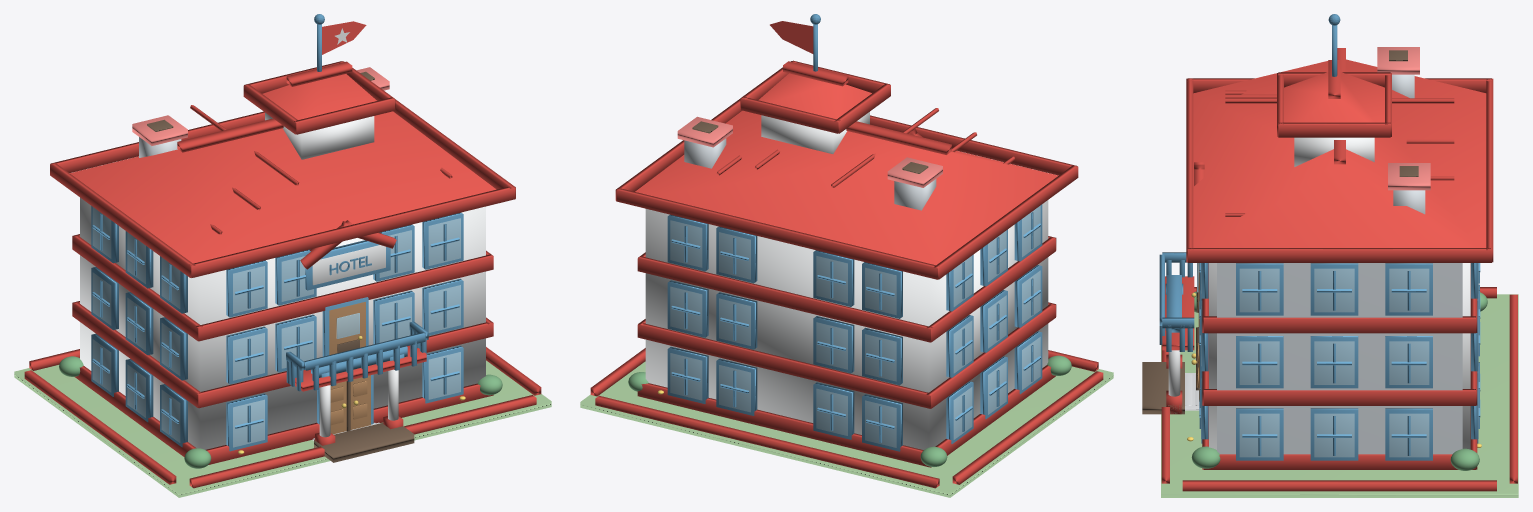
Rendered from hotel_detallado.glb.
3 views of the same model, side by side, from view 1: azimuth 30°, elevation 25°; view 2: azimuth 150°, elevation 25°; view 3: azimuth 270°, elevation 25° (orthographic). The views are drawn at different scales.
Parts seen in each view (by area): view 1: Hotel_Techo_Principal, Hotel_Cuerpo_Principal, Hotel_Grama_Base, Hotel_Techo_Principal_Fascia_Frontal, Hotel_Zocalo_Frontal_Nivel_3, Hotel_Torre_Central_Techo, Hotel_Zocalo_Frontal_Nivel_1, Hotel_Zocalo_Frontal_Nivel_2, Hotel_Techo_Principal_Fascia_Izquierda, Hotel_Torre_Central_Pared, Hotel_Entrada_Escalon, Hotel_Zocalo_Izquierdo_Nivel_3 (+57 smaller); view 2: Hotel_Techo_Principal, Hotel_Cuerpo_Principal, Hotel_Grama_Base, Hotel_Zocalo_Trasero_Nivel_3, Hotel_Zocalo_Trasero_Nivel_2, Hotel_Techo_Principal_Fascia_Trasera, Hotel_Borde_Base_Trasero, Hotel_Zocalo_Trasero_Nivel_1, Hotel_Torre_Central_Techo, Hotel_Techo_Principal_Fascia_Izquierda, Hotel_Techo_Principal_Fascia_Frontal, Hotel_Zocalo_Izquierdo_Nivel_3 (+54 smaller); view 3: Hotel_Techo_Principal, Hotel_Pared_Lateral_Azulada, Hotel_Grama_Base, Hotel_Zocalo_Derecho_Nivel_3, Hotel_Techo_Principal_Fascia_Derecha, Hotel_Zocalo_Derecho_Nivel_2, Hotel_Torre_Central_Techo, Hotel_Borde_Base_Lateral_Derecho, Hotel_Zocalo_Derecho_Nivel_1, Hotel_Cuerpo_Principal, Hotel_Torre_Central_Techo_Fascia_Derecha, Hotel_Borde_Base_Trasero (+38 smaller).
Boxes of the visible parts, left/top/right/bottom form: Hotel_Techo_Principal: left=70, top=111, right=496, bottom=263; Hotel_Cuerpo_Principal: left=80, top=197, right=485, bottom=449; Hotel_Grama_Base: left=14, top=360, right=551, bottom=497; Hotel_Techo_Principal_Fascia_Frontal: left=189, top=187, right=515, bottom=277; Hotel_Zocalo_Frontal_Nivel_3: left=196, top=254, right=493, bottom=341; Hotel_Torre_Central_Techo: left=262, top=74, right=376, bottom=119; Hotel_Zocalo_Frontal_Nivel_1: left=206, top=383, right=493, bottom=464; Hotel_Zocalo_Frontal_Nivel_2: left=197, top=321, right=493, bottom=408; Hotel_Techo_Principal_Fascia_Izquierda: left=50, top=163, right=195, bottom=277; Hotel_Torre_Central_Pared: left=265, top=112, right=374, bottom=159; Hotel_Entrada_Escalon: left=314, top=423, right=414, bottom=462; Hotel_Zocalo_Izquierdo_Nivel_3: left=72, top=235, right=202, bottom=340; Hotel_Techo_Principal: left=635, top=110, right=1058, bottom=265; Hotel_Cuerpo_Principal: left=645, top=200, right=1048, bottom=449; Hotel_Grama_Base: left=580, top=361, right=1113, bottom=497; Hotel_Zocalo_Trasero_Nivel_3: left=637, top=256, right=932, bottom=342; Hotel_Zocalo_Trasero_Nivel_2: left=637, top=323, right=930, bottom=408; Hotel_Techo_Principal_Fascia_Trasera: left=616, top=188, right=937, bottom=279; Hotel_Borde_Base_Trasero: left=595, top=395, right=939, bottom=488; Hotel_Zocalo_Trasero_Nivel_1: left=637, top=383, right=930, bottom=467; Hotel_Torre_Central_Techo: left=758, top=73, right=871, bottom=119; Hotel_Techo_Principal_Fascia_Izquierda: left=934, top=165, right=1078, bottom=279; Hotel_Techo_Principal_Fascia_Frontal: left=870, top=115, right=1077, bottom=175; Hotel_Zocalo_Izquierdo_Nivel_3: left=927, top=237, right=1055, bottom=342; Hotel_Techo_Principal: left=1193, top=59, right=1486, bottom=247; Hotel_Pared_Lateral_Azulada: left=1217, top=263, right=1462, bottom=454; Hotel_Grama_Base: left=1161, top=294, right=1518, bottom=497; Hotel_Zocalo_Derecho_Nivel_3: left=1203, top=316, right=1475, bottom=333; Hotel_Techo_Principal_Fascia_Derecha: left=1187, top=248, right=1491, bottom=262; Hotel_Zocalo_Derecho_Nivel_2: left=1203, top=389, right=1475, bottom=405; Hotel_Torre_Central_Techo: left=1284, top=72, right=1384, bottom=122; Hotel_Borde_Base_Lateral_Derecho: left=1182, top=480, right=1496, bottom=491; Hotel_Zocalo_Derecho_Nivel_1: left=1203, top=454, right=1475, bottom=469; Hotel_Cuerpo_Principal: left=1209, top=263, right=1470, bottom=449; Hotel_Torre_Central_Techo_Fascia_Derecha: left=1278, top=122, right=1390, bottom=137; Hotel_Borde_Base_Trasero: left=1509, top=294, right=1517, bottom=483.
Bounding box in the file's own units: 1.75 × 1.67 × 1.41.
